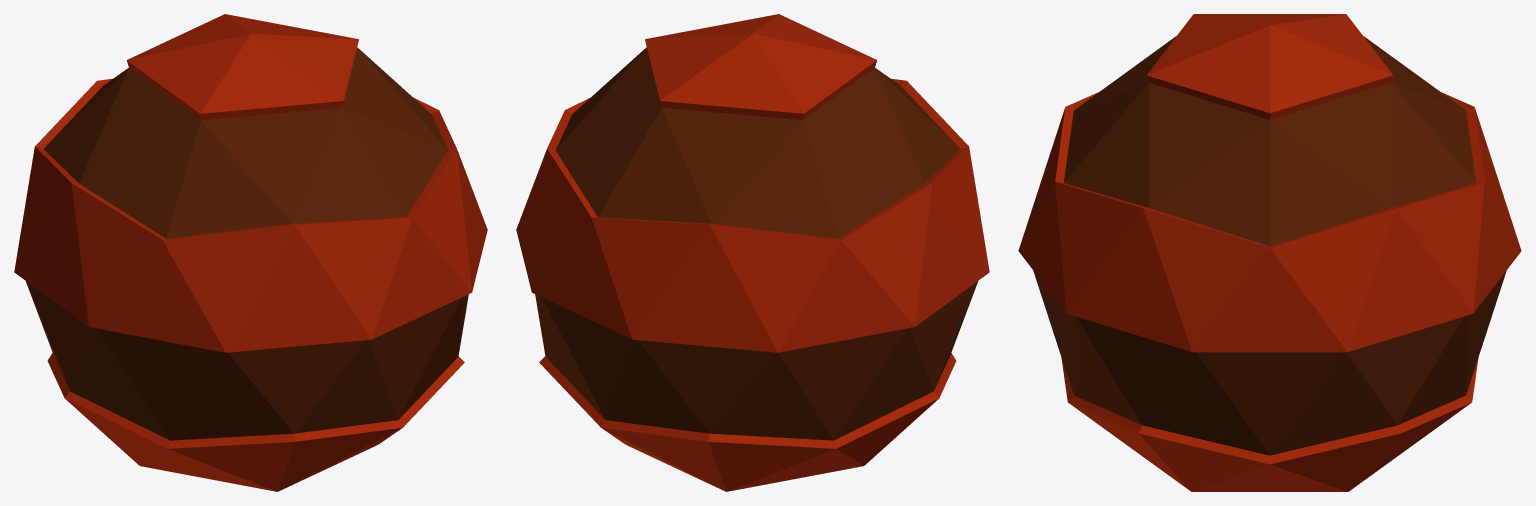
File: Planet3.fbx
3 renders of one model, left to right at view 1: azimuth 30°, elevation 25°; view 2: azimuth 150°, elevation 25°; view 3: azimuth 270°, elevation 25°, orthographic. The views are drawn at different scales.
Visible parts, largest first — view 1: Icosphere; view 2: Icosphere; view 3: Icosphere.
Boxes of the visible parts, box(x1,y1,x2,y2) form: Icosphere: box(14, 14, 487, 491); Icosphere: box(516, 14, 989, 491); Icosphere: box(1018, 14, 1521, 491).
Bounding box in the file's own units: 740 × 764 × 778.
